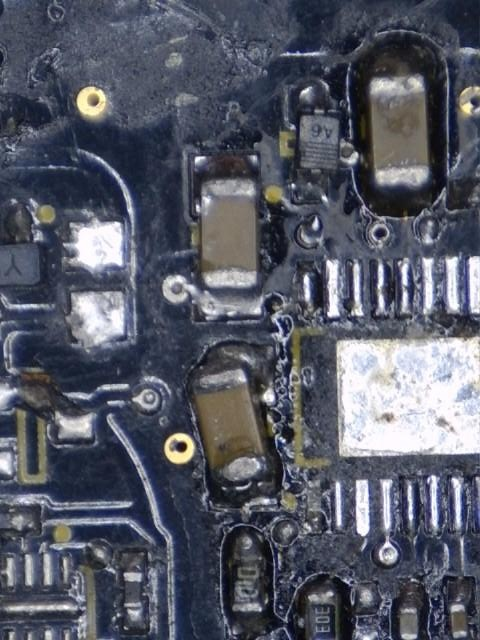pcb_defect: (187, 341, 280, 506), (0, 376, 99, 449), (162, 268, 265, 321)
